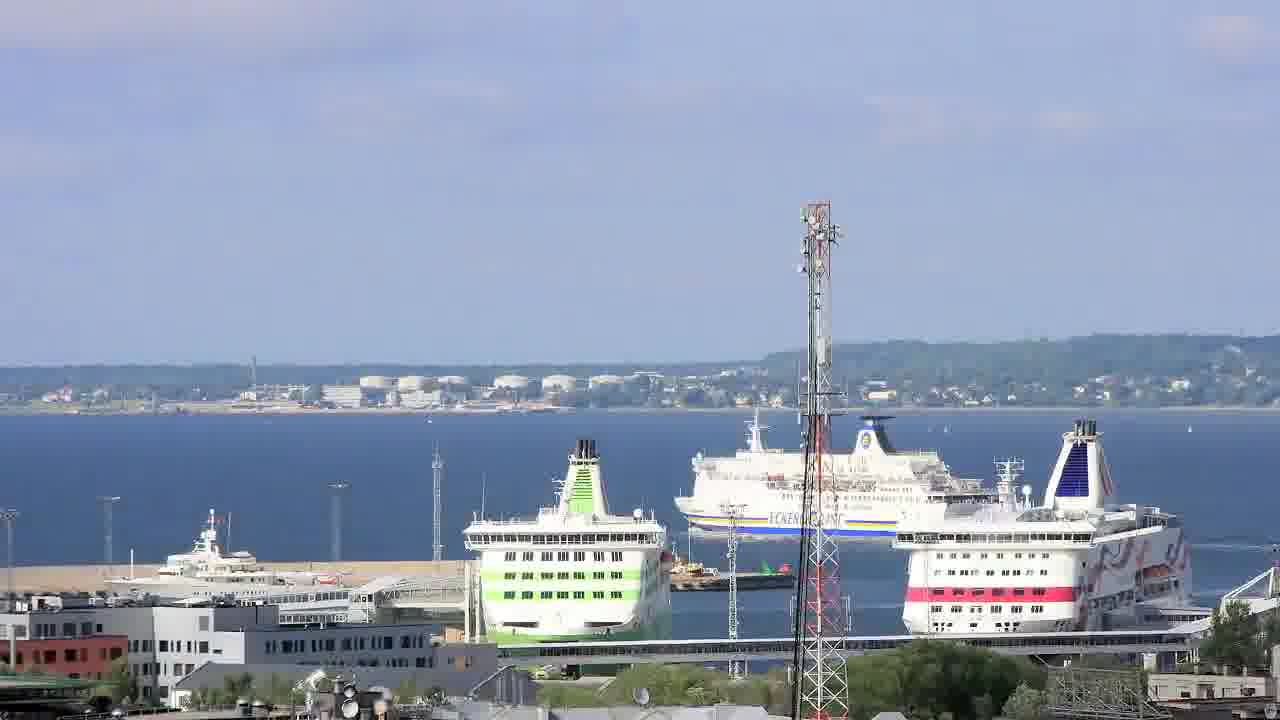type-3: (868, 415, 1225, 638), (436, 434, 694, 670), (675, 405, 996, 543), (83, 499, 358, 620)
